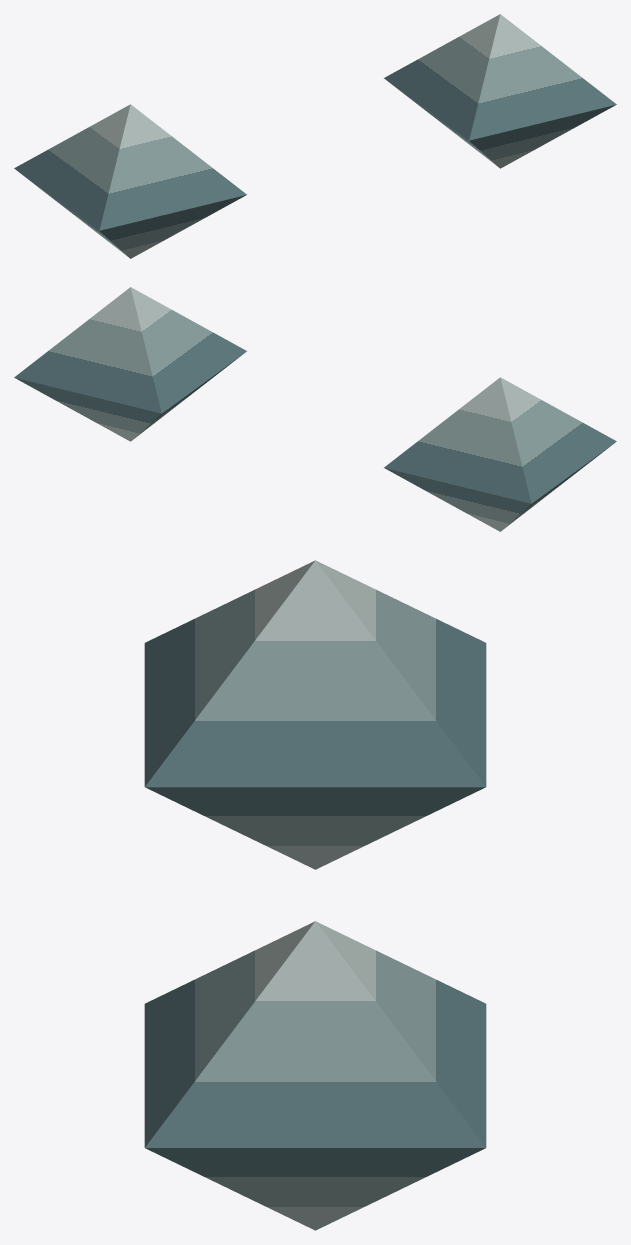
The model's file is rock_bullet.gltf.
3 views of the same model, one above another, from view 1: azimuth 30°, elevation 25°; view 2: azimuth 150°, elevation 25°; view 3: azimuth 270°, elevation 25° (orthographic). The views are drawn at different scales.
Visible parts, largest first — view 1: sphere (×2); view 2: sphere (×2); view 3: sphere (×2).
Boxes of the visible parts, x1,y1,x2,y2 form: sphere (×2): (14, 14, 616, 258); sphere (×2): (14, 287, 616, 531); sphere (×2): (144, 560, 486, 1230).
Bounding box in the file's own units: 0.875 × 0.25 × 0.25.
Materials: 1 (1 with a texture image).
